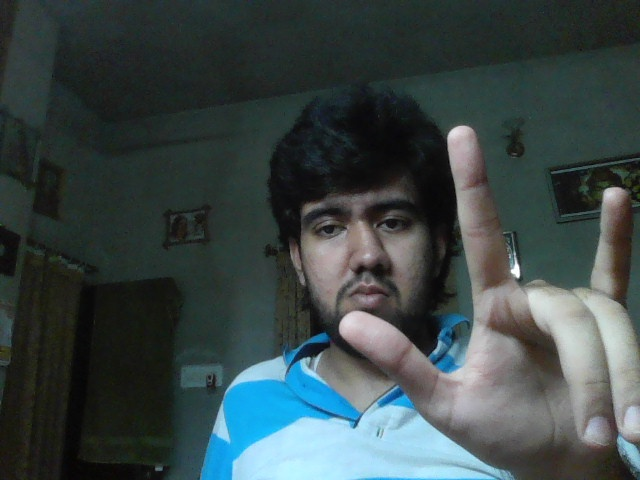ILoveYou: (338, 125, 640, 480)
